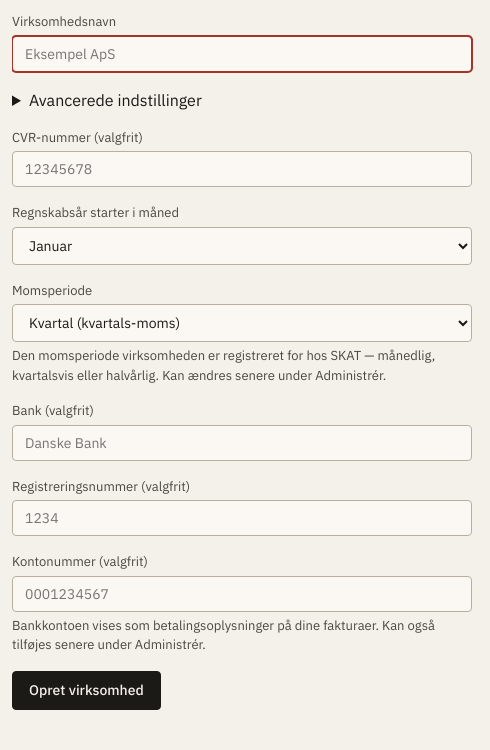
Test: CompanyForm › renders a backend conflict error inline
Type "Acme ApS" into the field labelled "Virksomhedsnavn" at (242, 54), box 12,36 -> 472,72
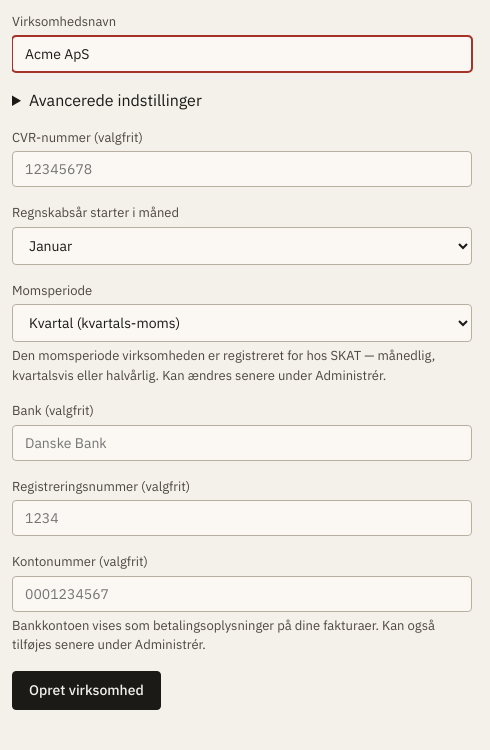
Click the button "Opret virksomhed" at (86, 690), box 12,670 -> 161,710
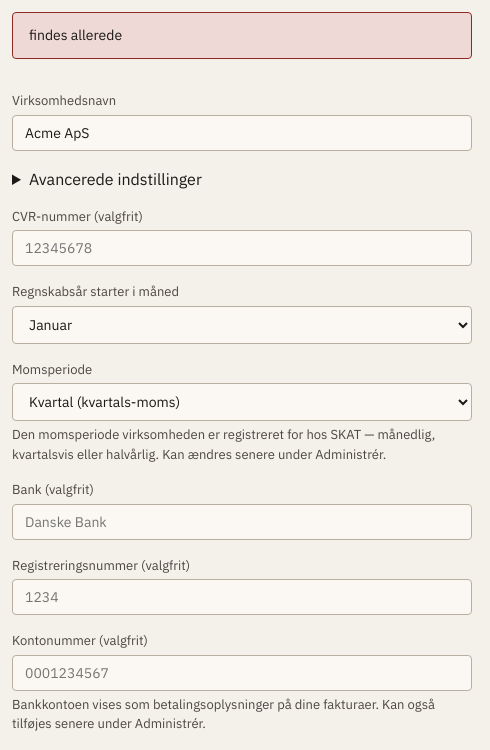
Expected: the message reads "findes allerede", 29,26 -> 122,44
